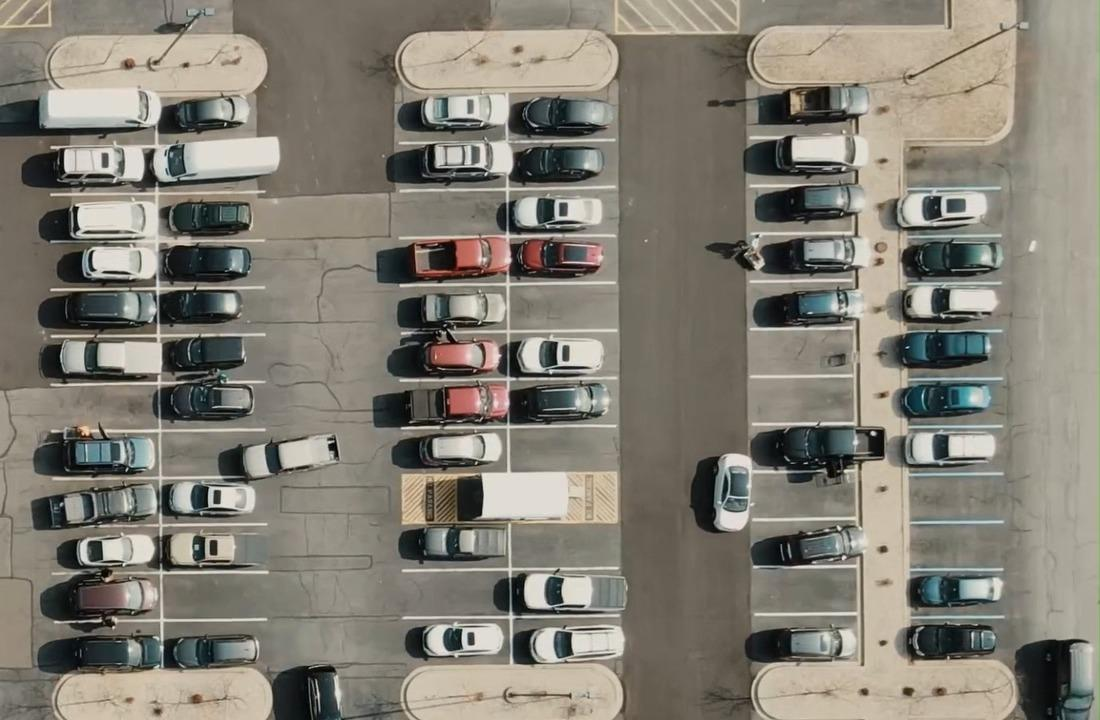car: (149, 135, 281, 184), (217, 431, 340, 481), (40, 422, 155, 475), (492, 570, 628, 614), (743, 132, 869, 176), (37, 86, 162, 130), (46, 481, 157, 528), (750, 522, 868, 566), (772, 423, 885, 466), (407, 234, 512, 280), (402, 382, 510, 425), (513, 623, 625, 664), (754, 182, 865, 223), (57, 337, 162, 380), (753, 286, 863, 327), (744, 624, 857, 663), (49, 142, 148, 186), (66, 572, 158, 617), (495, 195, 603, 233), (516, 95, 614, 136), (516, 381, 611, 423), (902, 239, 1003, 278), (896, 188, 989, 229), (510, 144, 604, 184), (897, 329, 992, 368), (514, 237, 604, 278), (901, 284, 997, 322), (513, 335, 604, 375), (63, 289, 156, 328), (419, 139, 500, 183), (160, 243, 251, 282), (164, 479, 256, 517), (903, 429, 995, 467), (166, 632, 259, 669), (782, 83, 869, 122), (899, 382, 992, 418), (906, 622, 996, 659), (416, 525, 506, 562), (67, 199, 148, 240), (710, 452, 751, 532), (417, 337, 501, 376), (158, 287, 243, 325), (911, 572, 1003, 607), (419, 290, 506, 327), (420, 621, 504, 658), (166, 199, 252, 235), (173, 93, 251, 132), (417, 431, 498, 468), (166, 334, 246, 371), (80, 245, 157, 282), (420, 93, 494, 130)
